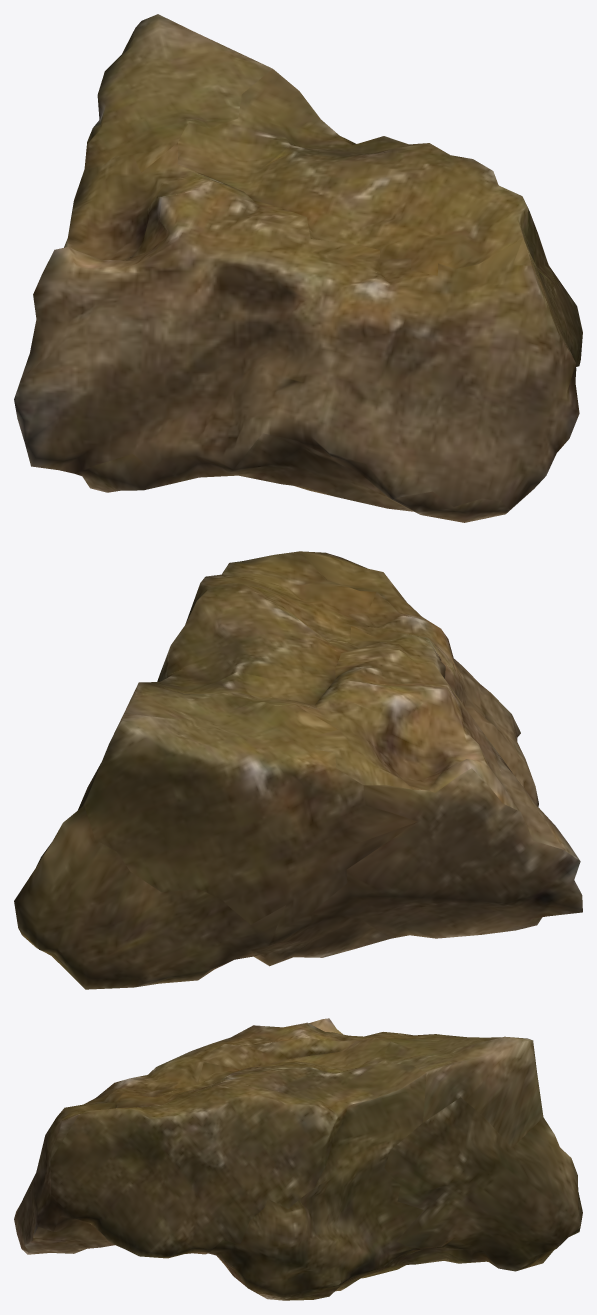
File: rock_5.glb
The picture shows the model from 3 angles, top to bottom: view 1: azimuth 30°, elevation 25°; view 2: azimuth 150°, elevation 25°; view 3: azimuth 270°, elevation 25°; orthographic projection. The views are drawn at different scales.
Parts seen in each view (by area): view 1: rock_moss_set_01_rock06; view 2: rock_moss_set_01_rock06; view 3: rock_moss_set_01_rock06.
Boxes of the visible parts, box(x1,y1,x2,y2) form: rock_moss_set_01_rock06: box(14, 14, 582, 522); rock_moss_set_01_rock06: box(14, 551, 582, 989); rock_moss_set_01_rock06: box(14, 1018, 582, 1300).
Bounding box in the file's own units: 2.14 × 1.26 × 2.76.
1 material, 1 textured.
